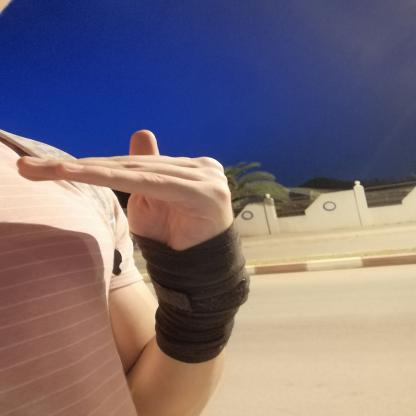KHAA: (2, 118, 258, 294)
